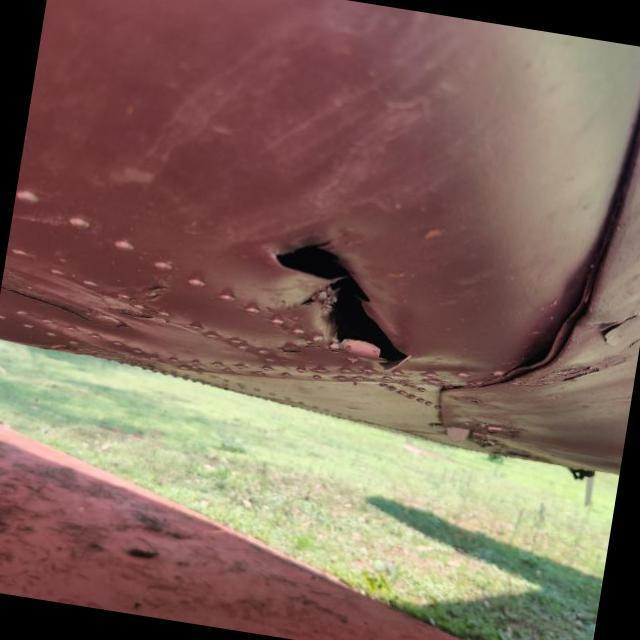Rupture: (234, 213, 440, 386)
